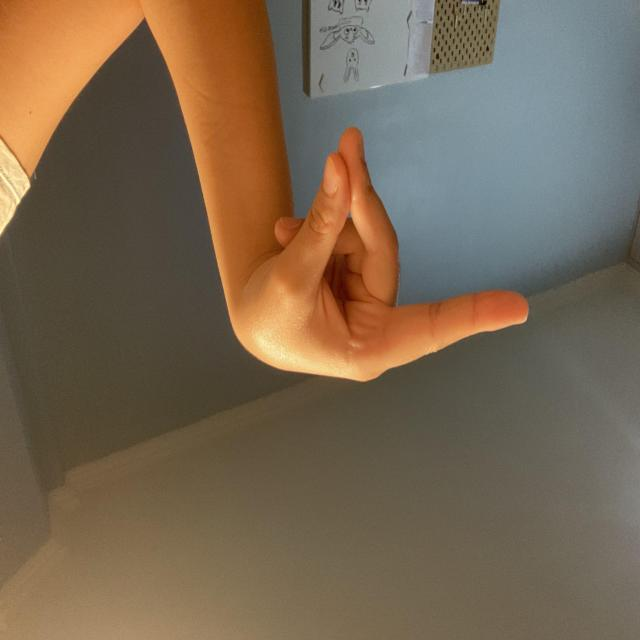P: (111, 257, 399, 513)
